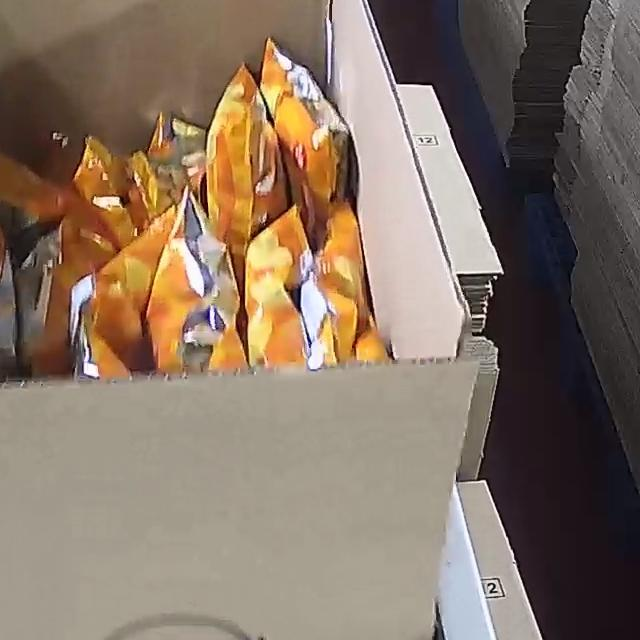cheese: (0, 36, 394, 379)
